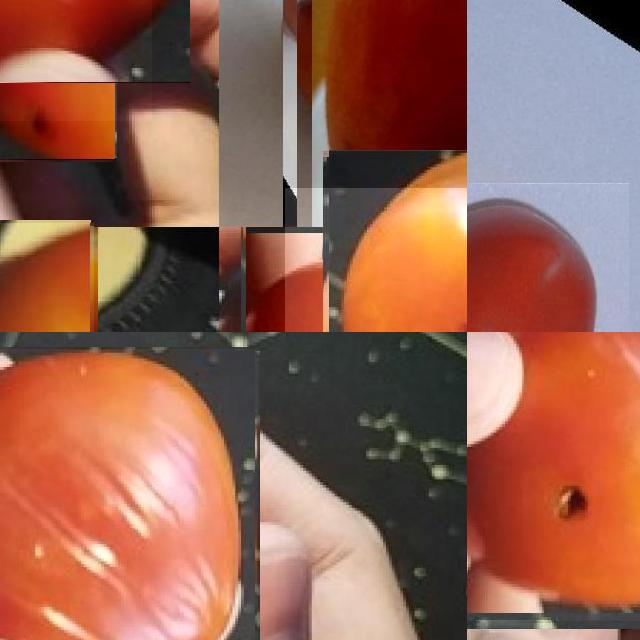0: (467, 183, 629, 332)
Fresh Tomato: (0, 223, 94, 332)
Rotten Tomato: (0, 348, 257, 640), (467, 332, 640, 621), (297, 0, 467, 227), (284, 188, 467, 332), (0, 0, 152, 121)
